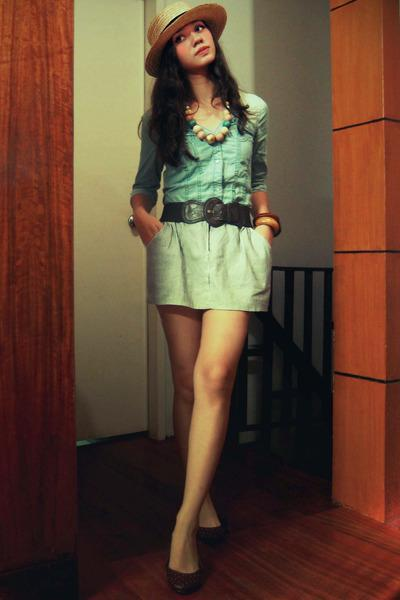dress: (134, 108, 269, 323)
hat: (144, 0, 226, 70)
shoe: (169, 523, 232, 572)
